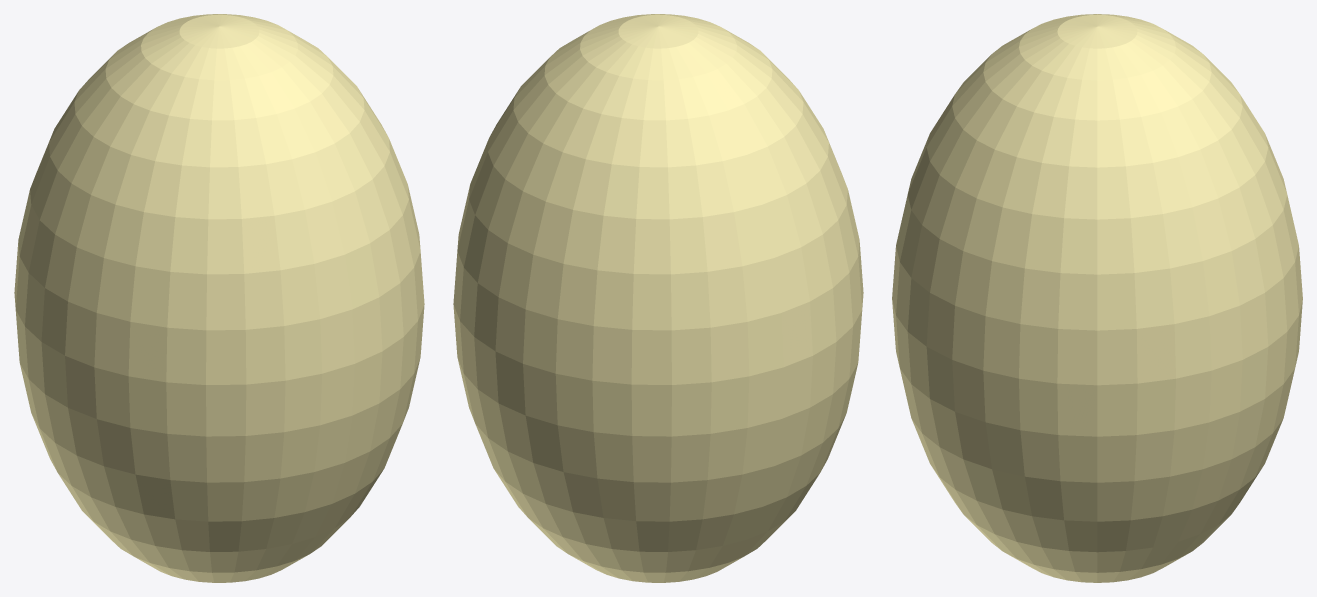
The model's file is egg.obj.
The picture shows the model from 3 angles, left to right: view 1: azimuth 30°, elevation 25°; view 2: azimuth 150°, elevation 25°; view 3: azimuth 270°, elevation 25°; orthographic projection.
Visible parts, largest first — view 1: 球; view 2: 球; view 3: 球.
Boxes of the visible parts, x1,y1,x2,y2 form: 球: (14,14,424,582); 球: (453,14,863,582); 球: (892,14,1302,582).
Bounding box in the file's own units: 2 × 2.92 × 2.
1 material, 1 textured.
